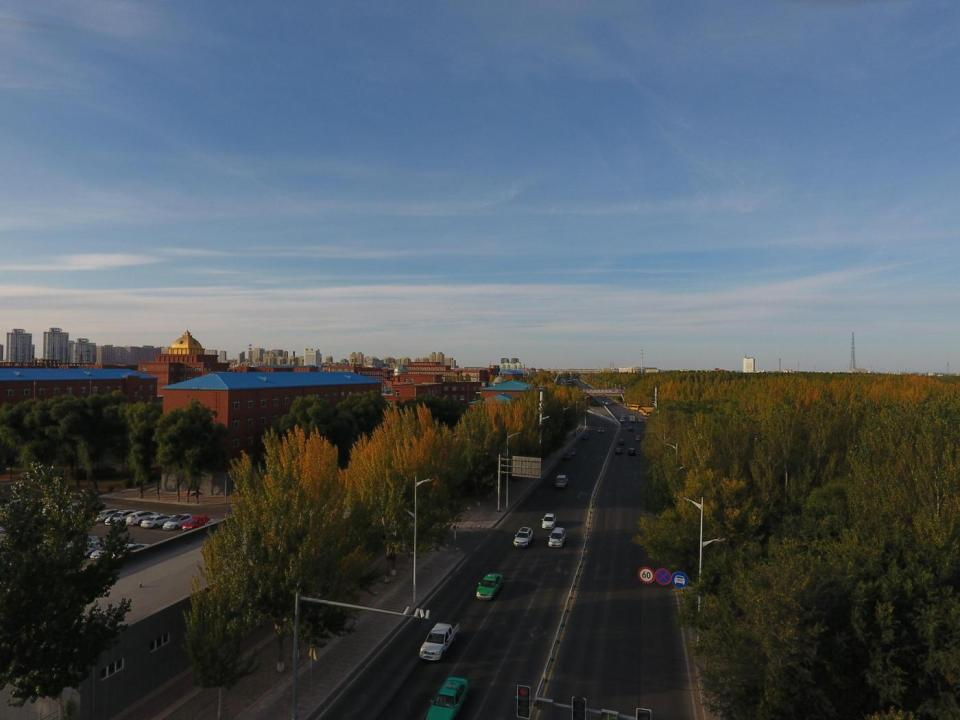car: (422, 674, 471, 720), (474, 572, 506, 602), (89, 538, 126, 561), (113, 542, 152, 561), (81, 537, 108, 559), (104, 509, 135, 528), (138, 514, 173, 530), (162, 513, 193, 531), (90, 508, 121, 526), (181, 515, 211, 533), (127, 510, 158, 526), (513, 527, 533, 548), (548, 527, 568, 548), (540, 512, 558, 530), (628, 447, 638, 457), (632, 432, 643, 441), (614, 446, 623, 456), (582, 432, 590, 441), (563, 451, 571, 460), (569, 448, 578, 455), (627, 424, 634, 432), (618, 439, 625, 446), (597, 426, 605, 432), (619, 417, 626, 423), (636, 417, 644, 422), (620, 413, 626, 419)
truck: (419, 615, 463, 662), (556, 474, 568, 489), (628, 415, 636, 422)
